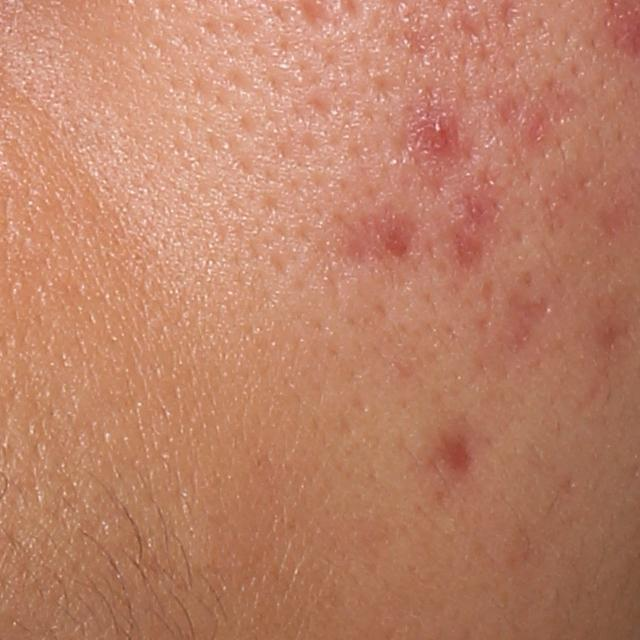atrophic_scar: (329, 212, 420, 271), (507, 292, 552, 354)
papule: (424, 118, 459, 154)
